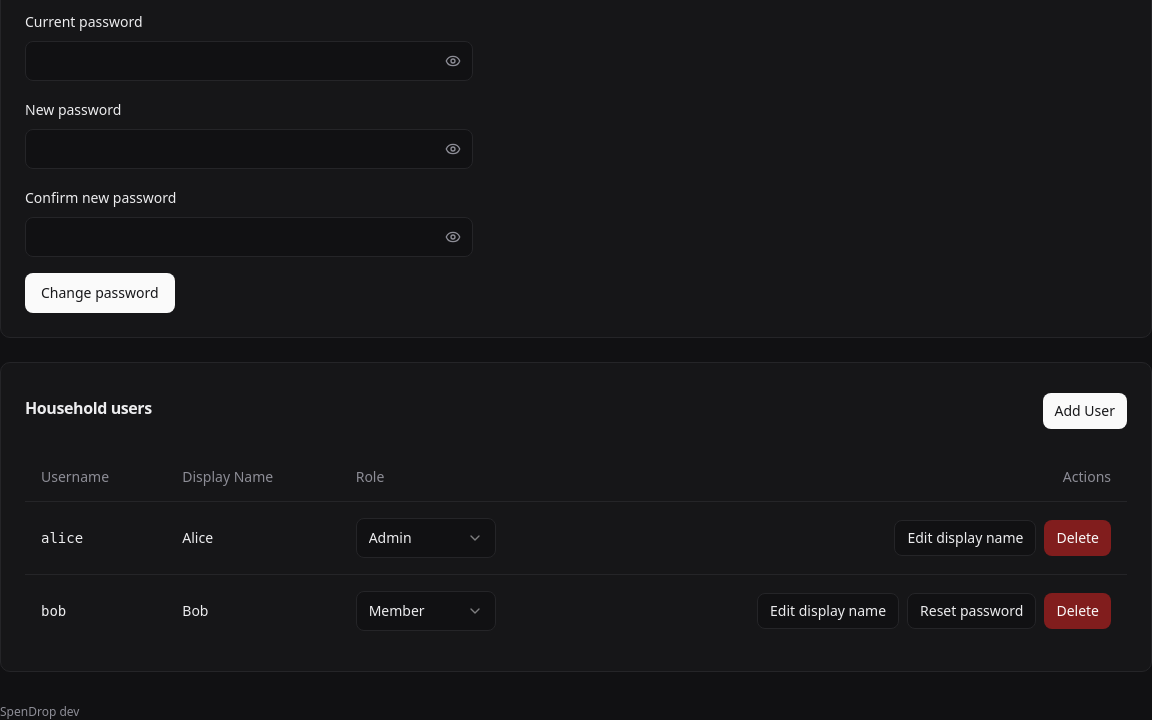
Test: Household users card — admin reset password › reset dialog validates confirm match before posting
(page scrolled)
Expected: the text "bob" is shown, x1=25 y1=574 x2=166 y2=646
Click the button with aria-label "reset password for bob". click: (972, 610)
box: x1=907 y1=592 x2=1036 y2=628
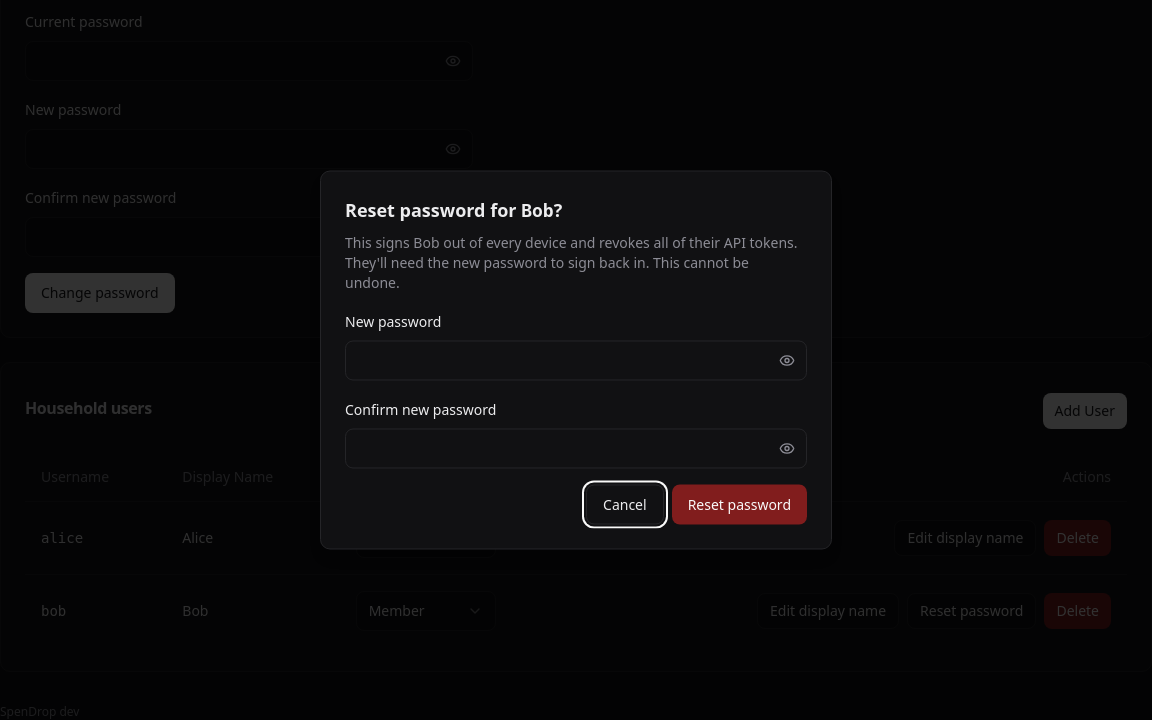
Type "newpass123" into the password field labelled "New password". click: (576, 360)
box: x1=345 y1=340 x2=807 y2=380
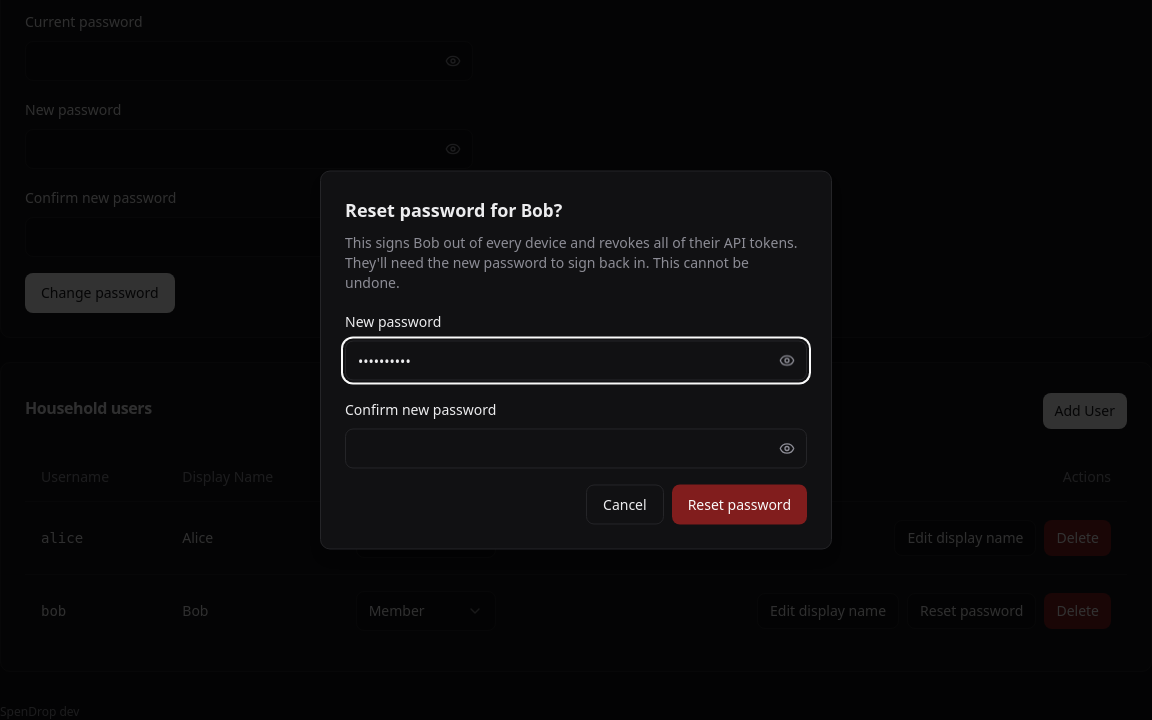
Type "mismatch123" into the password field labelled "Confirm new password". click: (576, 448)
box: x1=345 y1=428 x2=807 y2=468
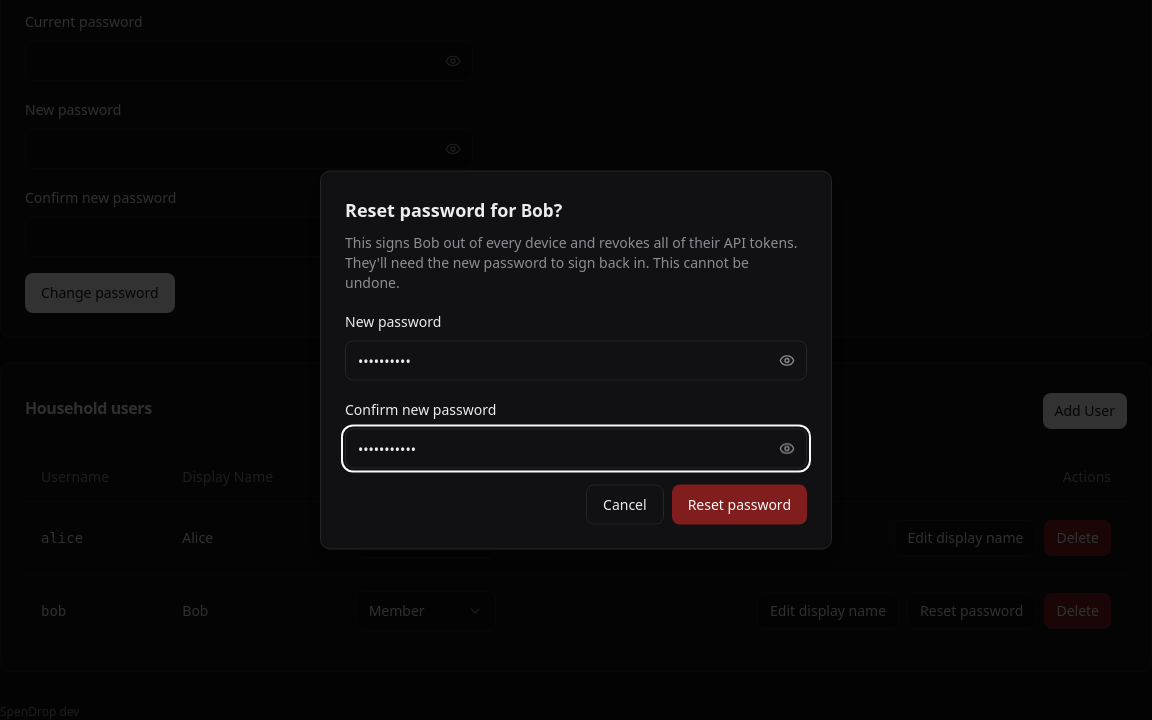
Click the button "Reset password". click: (739, 504)
box: x1=672 y1=484 x2=807 y2=524
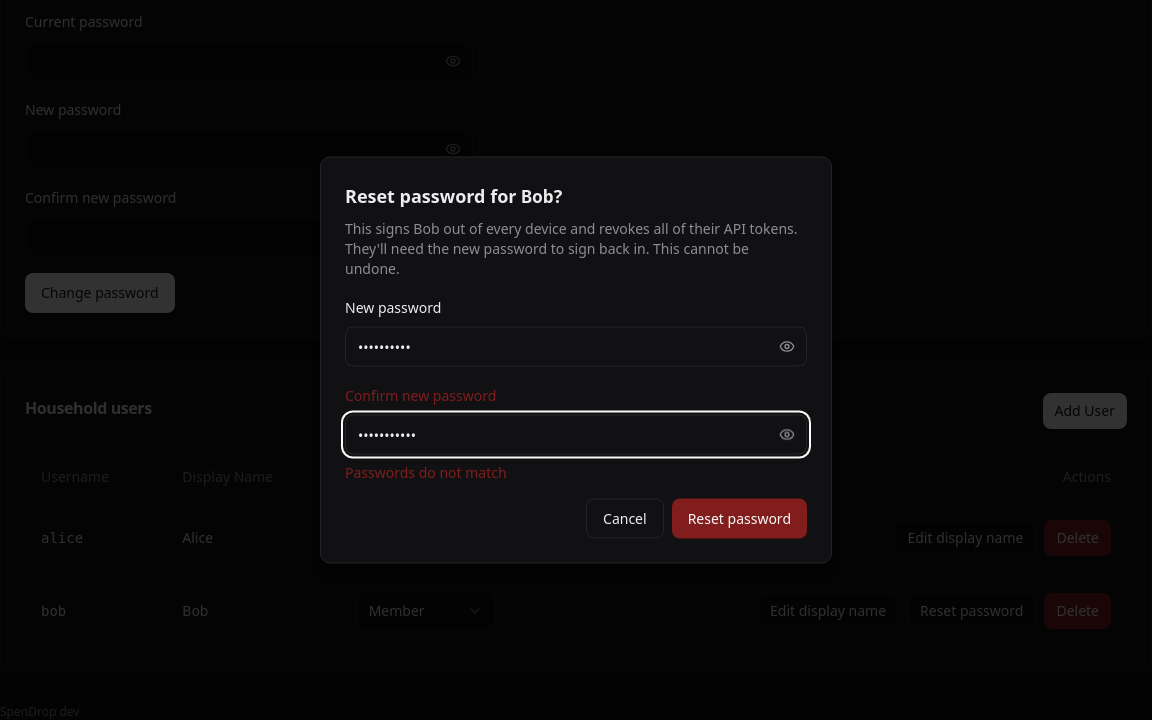
Now the text "Passwords do not match" is shown, box x1=345 y1=462 x2=507 y2=482
